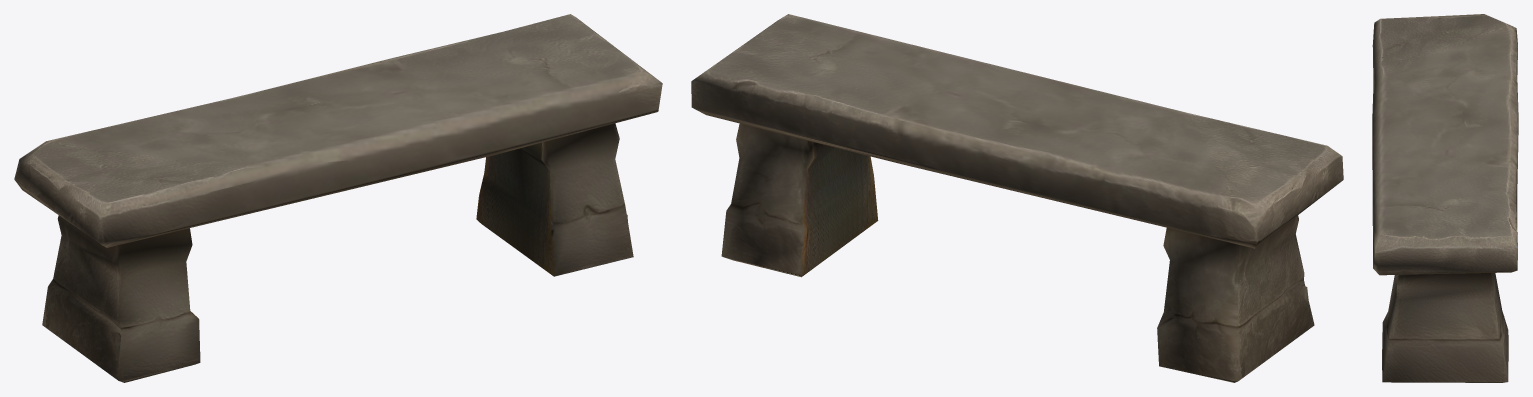
File: stonebench.glb
The picture shows the model from 3 angles, left to right: view 1: azimuth 30°, elevation 25°; view 2: azimuth 150°, elevation 25°; view 3: azimuth 270°, elevation 25°; orthographic projection. The views are drawn at different scales.
Parts seen in each view (by area): view 1: tripo_node_3d385b2a; view 2: tripo_node_3d385b2a; view 3: tripo_node_3d385b2a.
Boxes of the visible parts, left/top/right/bottom form: tripo_node_3d385b2a: left=14, top=14, right=662, bottom=382; tripo_node_3d385b2a: left=691, top=14, right=1343, bottom=382; tripo_node_3d385b2a: left=1372, top=14, right=1518, bottom=382.
Bounding box in the file's own units: 2.14 × 0.6839 × 0.5838.
Materials: 1 (1 with a texture image).
